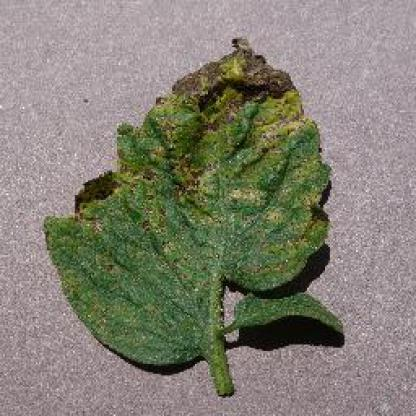bad leaf: (104, 39, 304, 233)
